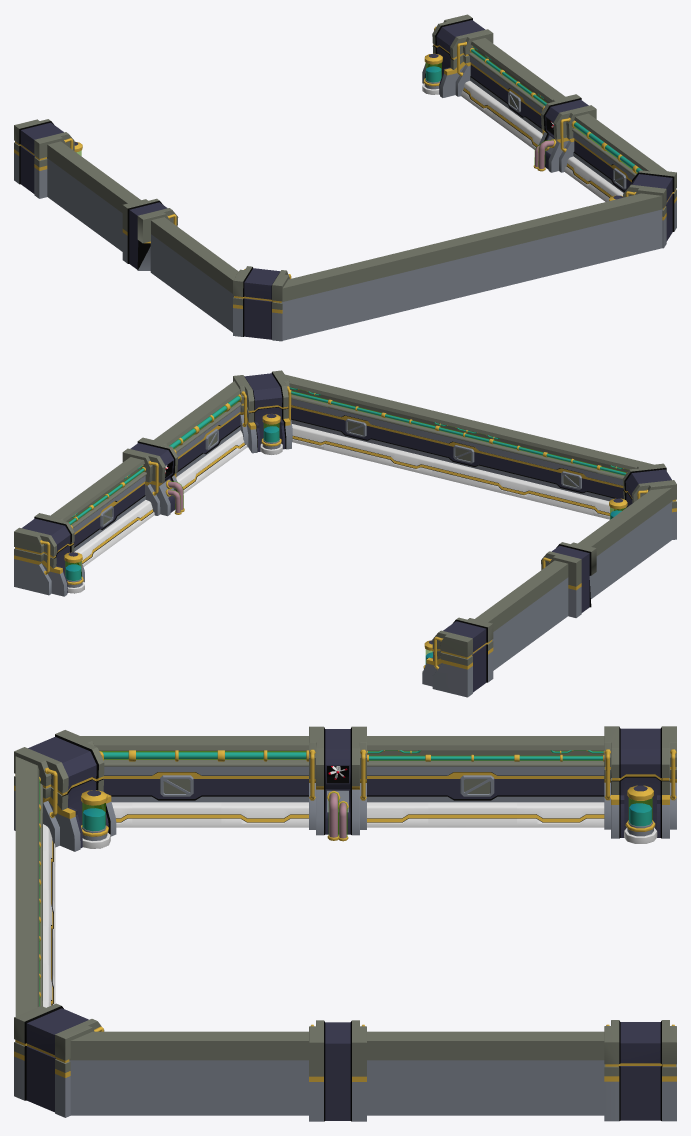
File: Level38.fbx
3 renders of one model, top to bottom at view 1: azimuth 30°, elevation 25°; view 2: azimuth 150°, elevation 25°; view 3: azimuth 270°, elevation 25°, orthographic. The views are drawn at different scales.
Visible parts, largest first — view 1: Base (×24), Bottle; view 2: Base (×25), Bottle (×2); view 3: Base (×25), Bottle (×2), Pipe1 (×2), Cage (×2).
Boxes of the visible parts, <box> form: Base (×24): <box>14,14,676,341</box>; Bottle: <box>422,53,442,94</box>; Base (×25): <box>14,370,676,697</box>; Bottle (×2): <box>64,414,282,593</box>; Base (×25): <box>14,726,676,1121</box>; Bottle (×2): <box>81,785,657,848</box>; Pipe1 (×2): <box>132,750,308,761</box>; Cage (×2): <box>160,775,494,796</box>.
Bounding box in the file's own units: 618 × 73.12 × 547.
